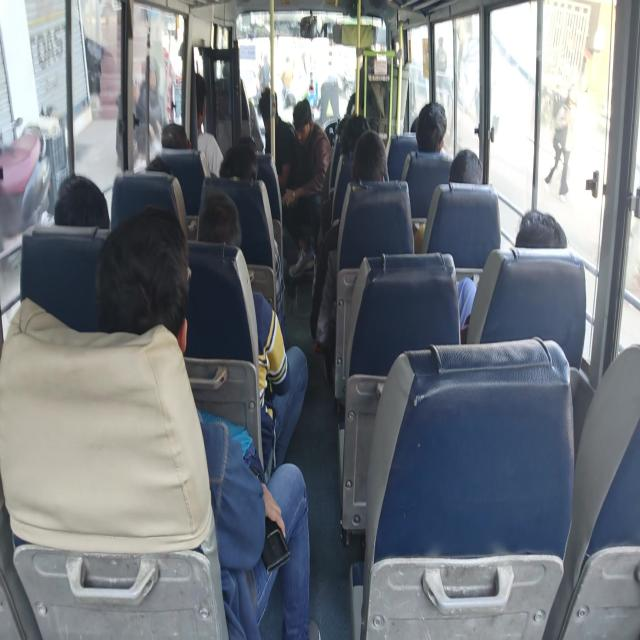person: (96, 206, 320, 638), (196, 191, 308, 477), (312, 129, 389, 350), (457, 208, 568, 329), (281, 98, 332, 278), (414, 148, 483, 252), (257, 86, 296, 189), (544, 78, 576, 197), (193, 72, 224, 178), (53, 173, 110, 229), (136, 54, 164, 151), (514, 209, 568, 248), (415, 101, 448, 154), (448, 148, 483, 184), (161, 122, 190, 149)
